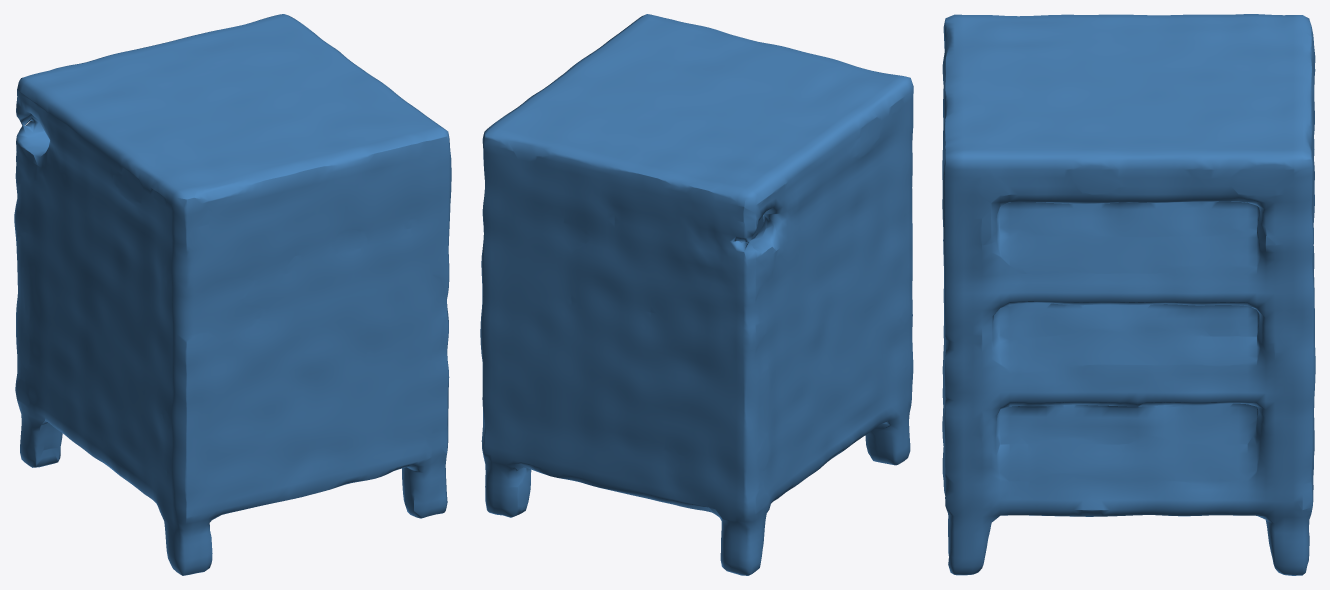
File: nightstand_8_2.obj
3 renders of one model, left to right at view 1: azimuth 30°, elevation 25°; view 2: azimuth 150°, elevation 25°; view 3: azimuth 270°, elevation 25°, orthographic. The views are drawn at different scales.
Bounding box in the file's own units: 0.5988 × 0.8013 × 0.6371.
